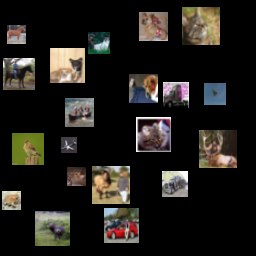airplane: (134, 194, 172, 232), (207, 156, 239, 188), (75, 125, 94, 144)
automobile: (21, 24, 50, 53), (53, 165, 82, 194), (3, 135, 32, 164), (39, 107, 65, 133)
bird: (101, 112, 127, 138)
deer: (169, 3, 207, 41), (85, 83, 104, 102)
dog: (184, 190, 216, 222), (16, 198, 42, 224)
frog: (32, 66, 70, 104), (81, 8, 113, 40), (140, 123, 166, 149), (209, 13, 231, 35)
ship: (89, 163, 127, 201)
